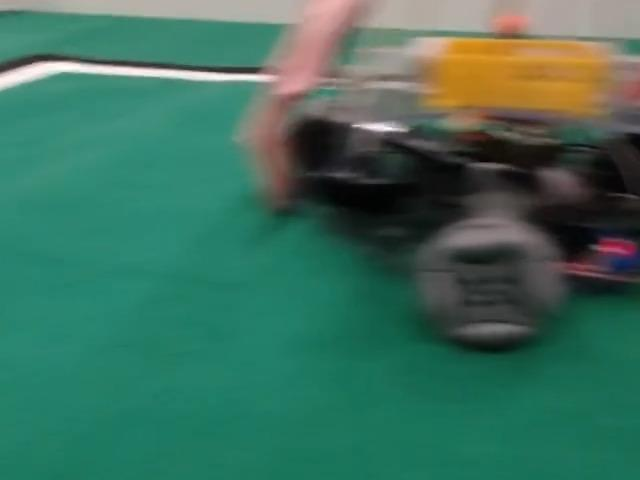Robot: (289, 0, 639, 349)
